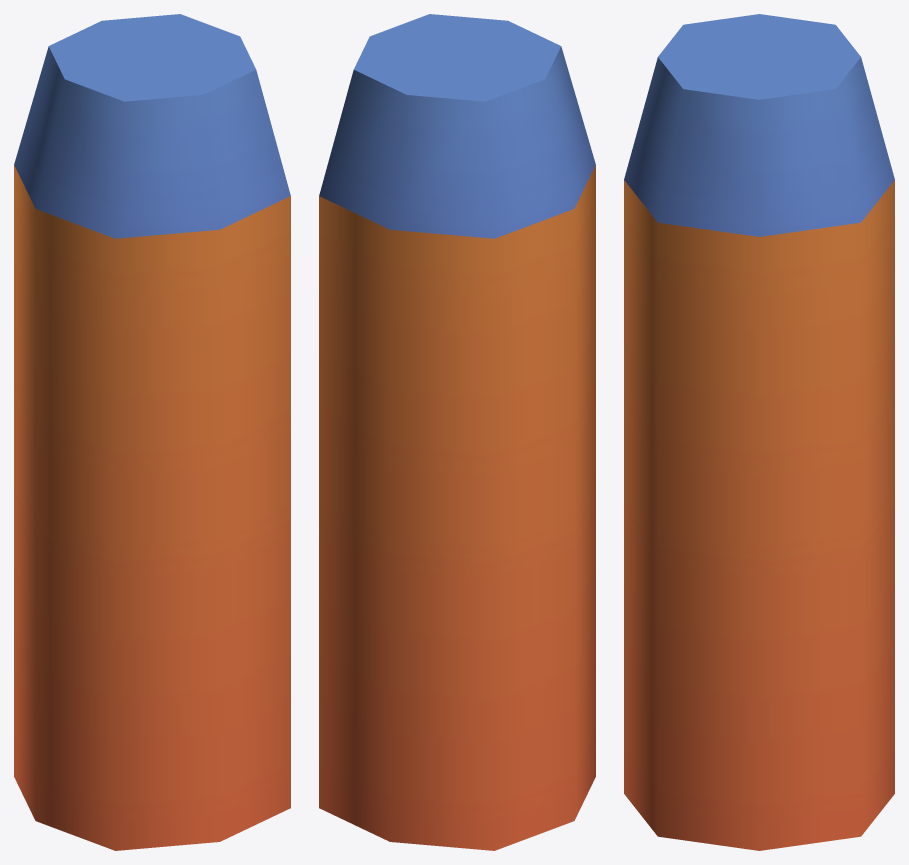
The model's file is bullet-foam-tip.glb.
The picture shows the model from 3 angles, left to right: view 1: azimuth 30°, elevation 25°; view 2: azimuth 150°, elevation 25°; view 3: azimuth 270°, elevation 25°; orthographic projection.
Parts seen in each view (by area): view 1: bullet-foam-tip; view 2: bullet-foam-tip; view 3: bullet-foam-tip.
Boxes of the visible parts, bbox=[...] form: bullet-foam-tip: bbox=[14, 14, 290, 850]; bullet-foam-tip: bbox=[319, 14, 595, 850]; bullet-foam-tip: bbox=[624, 14, 894, 850].
Bounding box in the file's own units: 0.02 × 0.06 × 0.02.
1 material, 1 textured.
